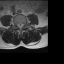CCS_normal: (19, 22, 21, 30)
LFS_normal: (23, 21, 24, 28)
LLS_normal: (21, 22, 22, 29)
RFS_normal: (16, 22, 17, 28)
RLS_normal: (17, 22, 19, 29)
